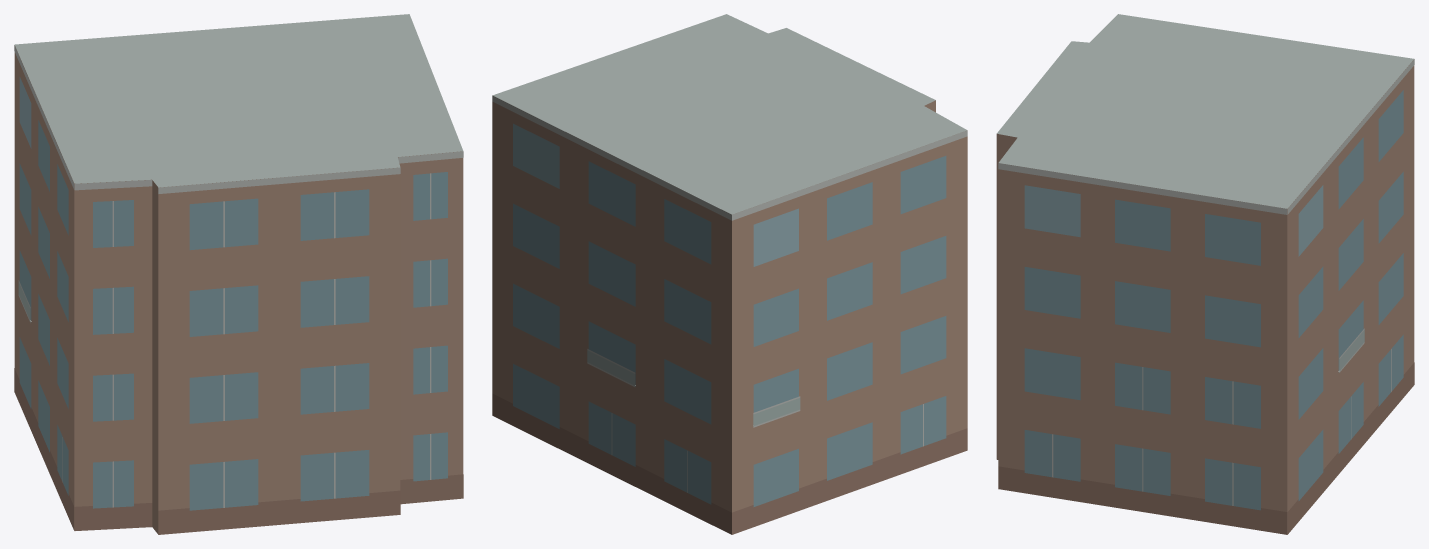
The model's file is survey-upis-33045294.glb.
The picture shows the model from 3 angles, left to right: view 1: azimuth 30°, elevation 25°; view 2: azimuth 150°, elevation 25°; view 3: azimuth 270°, elevation 25°; orthographic projection. The views are drawn at different scales.
Visible parts, largest first — view 1: survey-upis-33045294.tmp; view 2: survey-upis-33045294.tmp; view 3: survey-upis-33045294.tmp.
Part boxes in pixels (box(x1,y1,x2,y2)): survey-upis-33045294.tmp: box(14, 14, 463, 534); survey-upis-33045294.tmp: box(492, 14, 967, 534); survey-upis-33045294.tmp: box(996, 14, 1414, 534).
Bounding box in the file's own units: 16.41 × 12.8 × 14.88.
